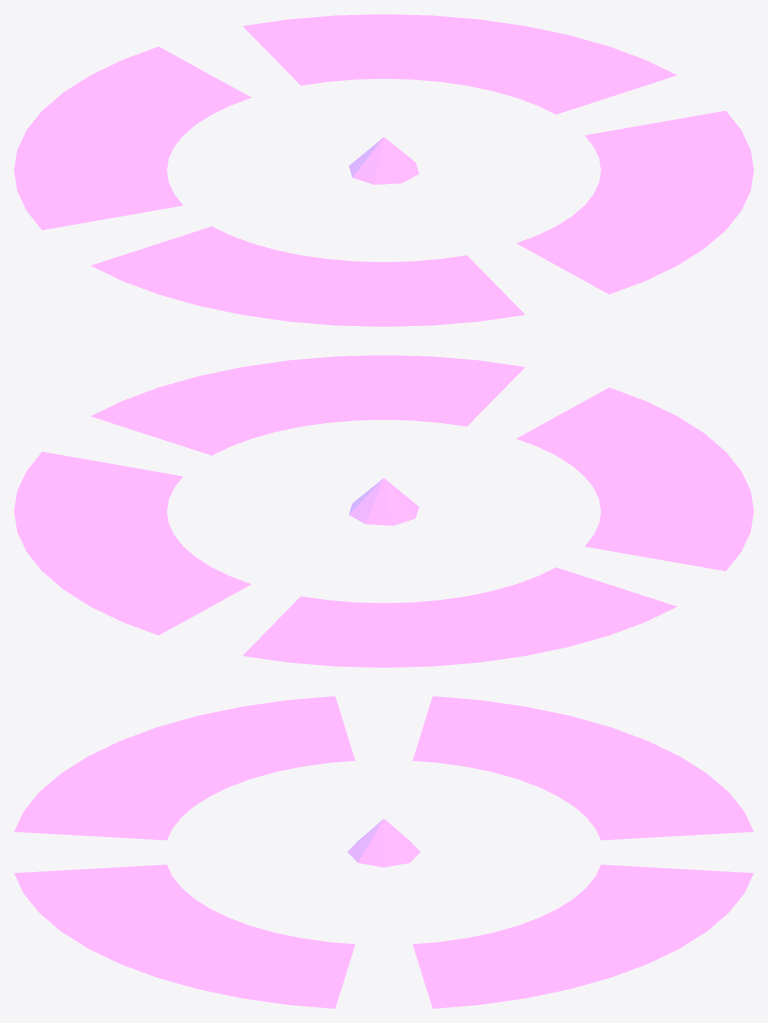
The model's file is reticle.gltf.
3 renders of one model, top to bottom at view 1: azimuth 30°, elevation 25°; view 2: azimuth 150°, elevation 25°; view 3: azimuth 270°, elevation 25°, orthographic.
Parts seen in each view (by area): view 1: Torus; view 2: Torus; view 3: Torus.
Part boxes in pixels (box(x1,y1,x2,y2)): Torus: box(14, 14, 753, 326); Torus: box(14, 355, 753, 667); Torus: box(14, 696, 753, 1008).
Bounding box in the file's own units: 0.2797 × 0.0141 × 0.2797.
